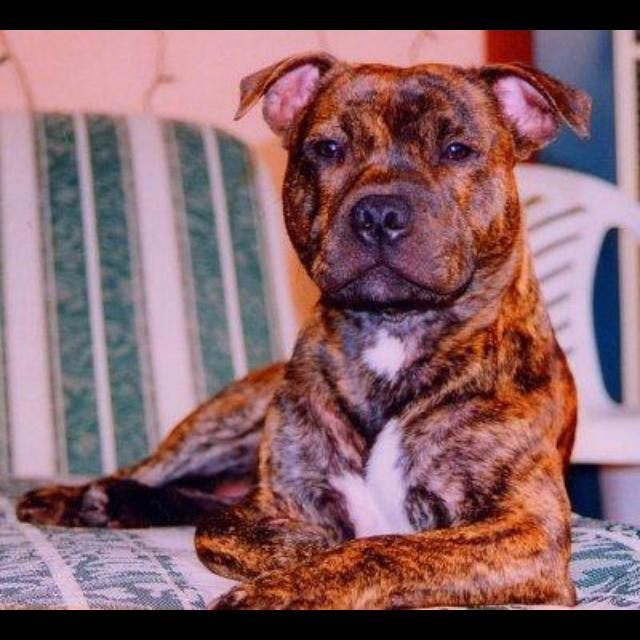staffford: (15, 49, 591, 610)
